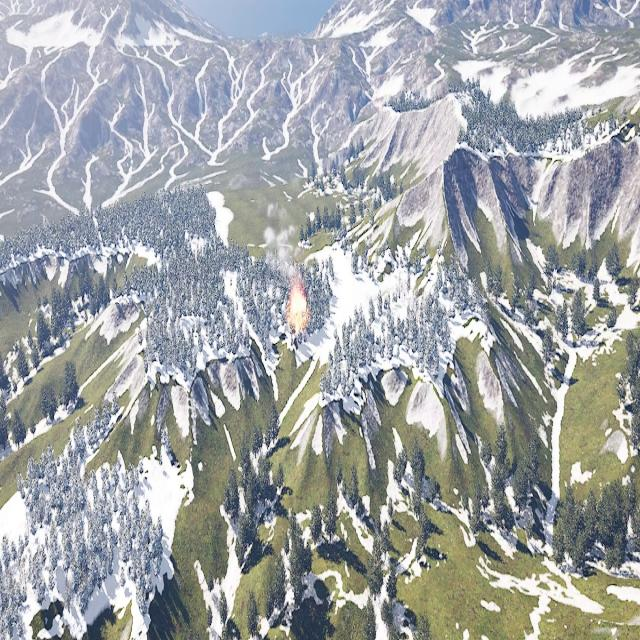fire: (288, 287, 307, 329)
smoke: (264, 202, 300, 283)
